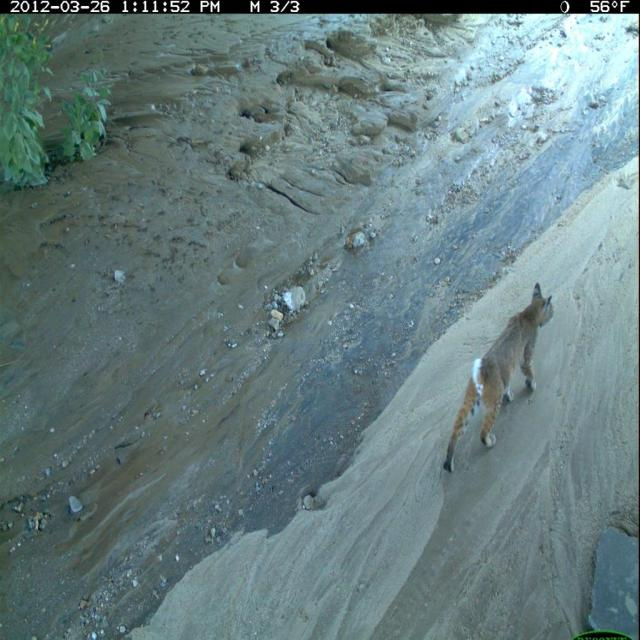bobcat: (439, 280, 557, 479)
